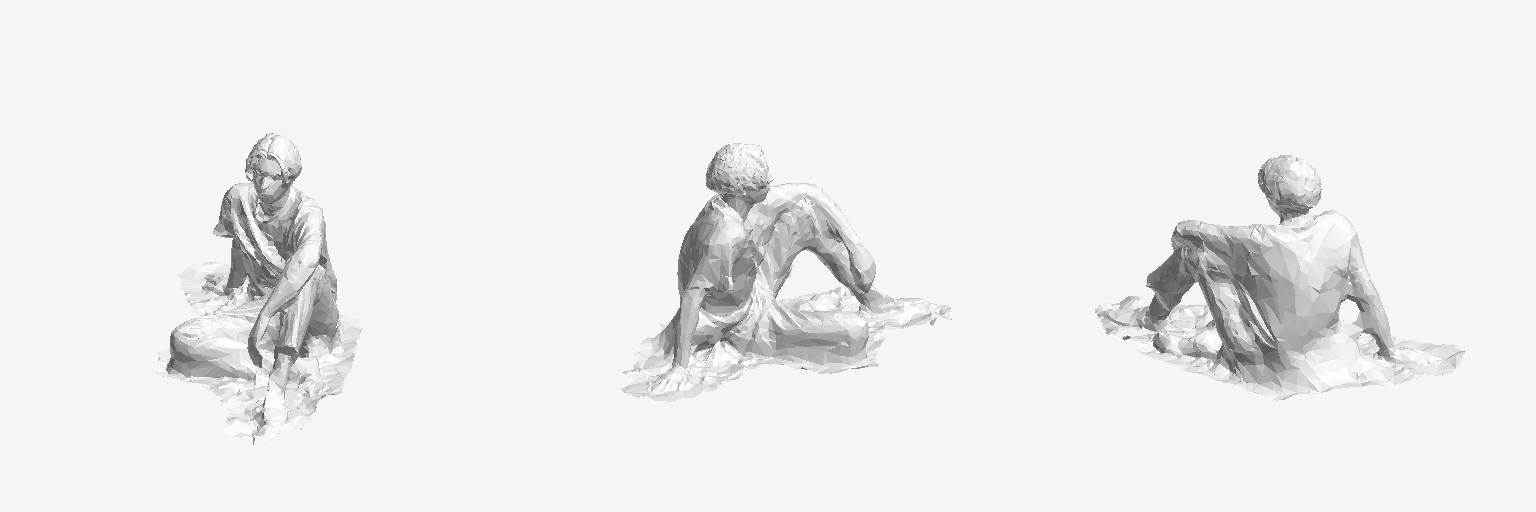
Rendered from gamLo1.obj.
3 renders of one model, left to right at view 1: azimuth 30°, elevation 25°; view 2: azimuth 150°, elevation 25°; view 3: azimuth 270°, elevation 25°, orthographic.
Parts seen in each view (by area): view 1: GamLo1; view 2: GamLo1; view 3: GamLo1.
Part boxes in pixels (x1,y1,x2,y2): GamLo1: (153, 133, 362, 444); GamLo1: (621, 143, 951, 402); GamLo1: (1095, 155, 1464, 400).
Bounding box in the file's own units: 1297 × 1256 × 1932.